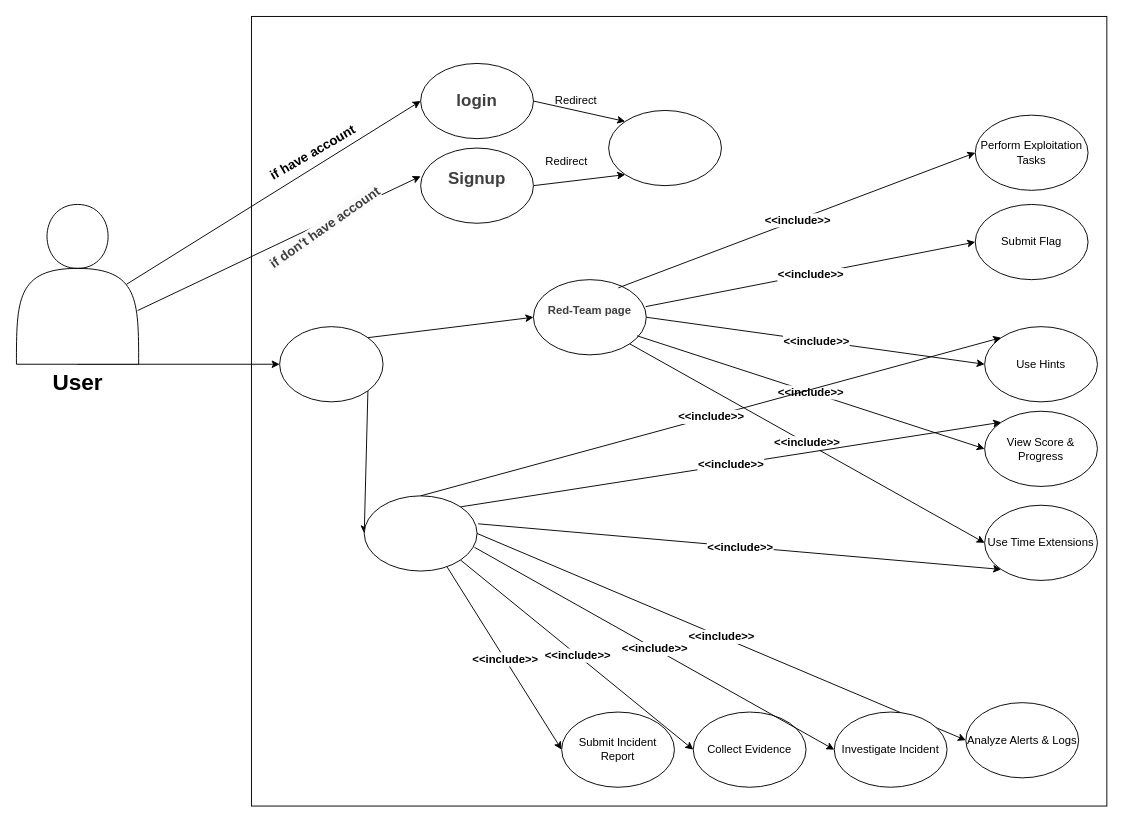
Image size: 1123x823. Some labels were removed from this diagram. The centre of each missing label's shape, as x and y in pixels:
Blue-Team page: [420,533]
Choose Track: [331,364]
Home_Page: [664,148]
